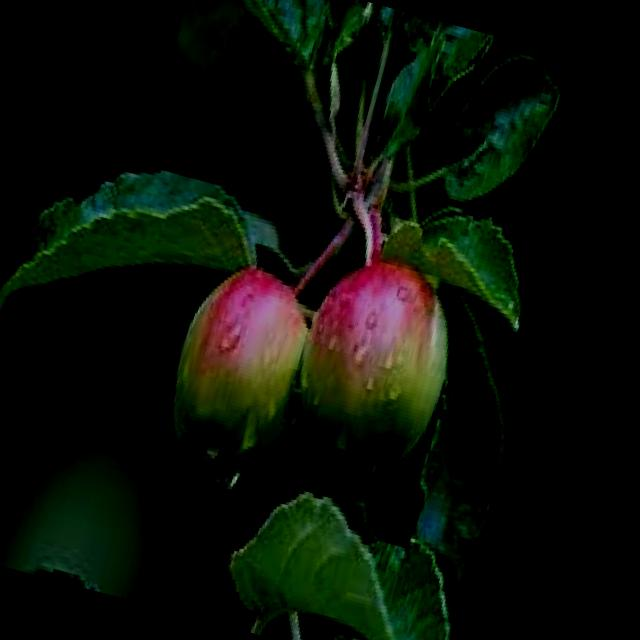Apple: (276, 243, 474, 490), (149, 252, 330, 491)
